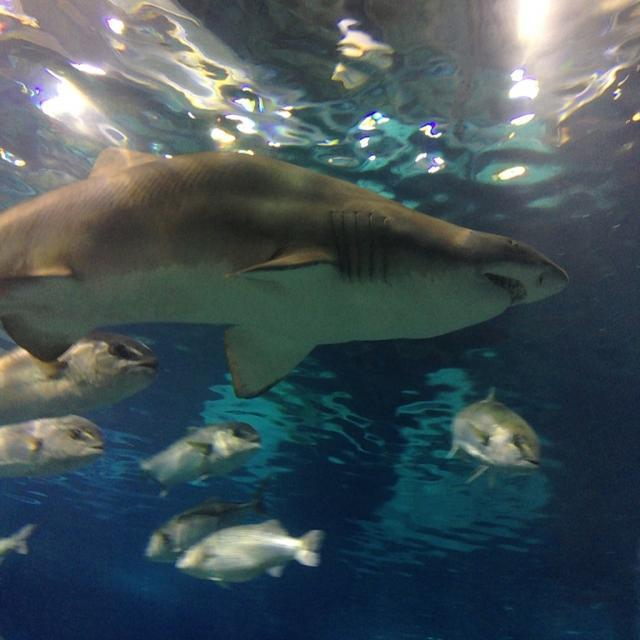Shark: (0, 147, 571, 400)
